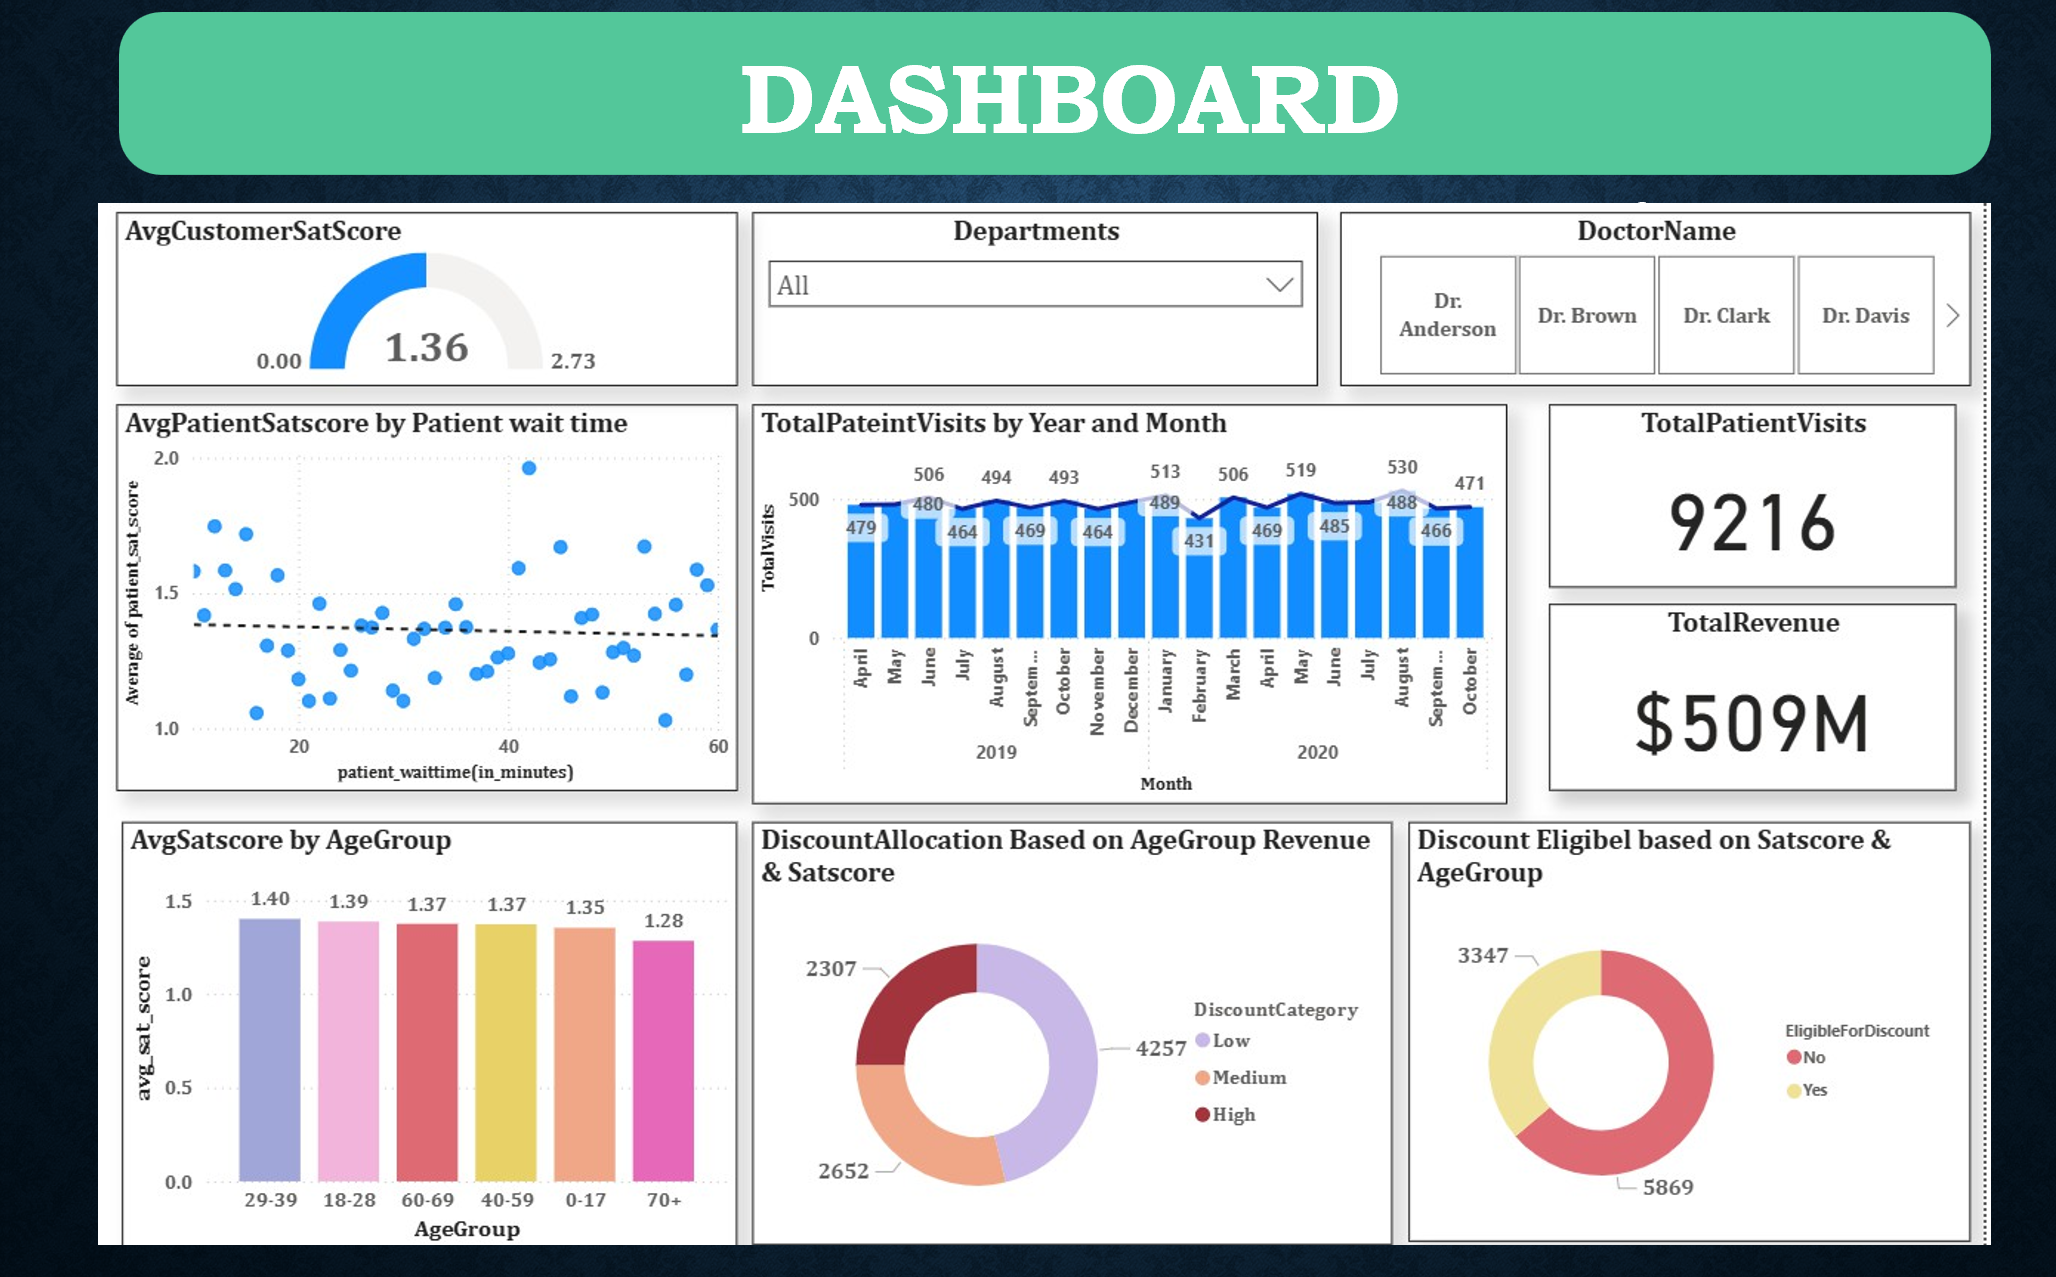

The page's visual inventory and layout, read from the dashboard file:
{"tool":"powerbi","page":{"name":"Doctors tab","canvas":[1280,720],"ordinal":1},"visuals":[{"type":"slicer","title":"DoctorName","fields":{"Values":["Sheet1.Doctor Name"]},"box":[845,11.2,426.2,117.5],"z":0},{"type":"card","title":"TotalPatientVisits","fields":{"Values":["Sheet1.TotalVisits"]},"box":[986.2,141.2,275,123.8],"z":1000},{"type":"scatterChart","title":"AvgPatientSatscore by Patient wait time","fields":{"X":["Hospital ER (1).patient_waittime(in_minutes)"],"Y":["Avg(Hospital ER (1).patient_sat_score)"]},"box":[17.5,141.2,420,261.2],"z":2000},{"type":"card","title":"TotalRevenue","fields":{"Values":["Sheet1.TotalRevenue"]},"box":[986.2,276.2,275,126.2],"z":3000},{"type":"slicer","title":"Departments","fields":{"Values":["Hospital ER (1).department_referral"]},"box":[447.5,11.2,382.5,117.5],"z":4000},{"type":"gauge","title":"AvgCustomerSatScore","fields":{"Y":["Hospital ER (1).avg_sat_score"]},"box":[17.5,11.2,420,117.5],"z":5000},{"type":"lineStackedColumnComboChart","title":"TotalPateintVisits by Year and Month","fields":{"Category":["Hospital ER (1).date.Variation.Date Hierarchy.Year","Hospital ER (1).date.Variation.Date Hierarchy.Month"],"Y2":["Sheet1.TotalVisits"],"Y":["Sheet1.TotalVisits"]},"box":[447.5,141.2,510,270],"z":6000},{"type":"clusteredColumnChart","title":"AvgSatscore by AgeGroup","fields":{"Category":["Hospital ER (1).AgeGroup"],"Y":["Hospital ER (1).avg_sat_score"]},"box":[21.4,424.3,415.7,290],"z":7000},{"type":"donutChart","title":"DiscountAllocation Based on AgeGroup Revenue & Satscore","fields":{"Y":["CountNonNull(Hospital ER (1).Discount Allocation)"],"Category":["Hospital ER (1).Discount Allocation"]},"box":[447.5,423.8,432.5,286.2],"z":8000},{"type":"donutChart","title":"Discount Eligibel based on  Satscore & AgeGroup","fields":{"Category":["Hospital ER (1).EligibleForDiscount"],"Y":["CountNonNull(Hospital ER (1).EligibleForDiscount)"]},"box":[891.2,423.8,380,283.8],"z":9000}]}

Visuals, with their boxes on the page's 1280x720 design canvas (x1, y1, x2, y2). These are canvas units, not pixel positions in the 2056x1277 screenshot, which may show the page scaled, cropped or inside an application window:
"DoctorName" slicer: detection(845, 11, 1271, 129)
"TotalPatientVisits" card: detection(986, 141, 1261, 265)
"AvgPatientSatscore by Patient wait time" scatterChart: detection(18, 141, 438, 402)
"TotalRevenue" card: detection(986, 276, 1261, 402)
"Departments" slicer: detection(448, 11, 830, 129)
"AvgCustomerSatScore" gauge: detection(18, 11, 438, 129)
"TotalPateintVisits by Year and Month" lineStackedColumnComboChart: detection(448, 141, 958, 411)
"AvgSatscore by AgeGroup" clusteredColumnChart: detection(21, 424, 437, 714)
"DiscountAllocation Based on AgeGroup Revenue & Satscore" donutChart: detection(448, 424, 880, 710)
"Discount Eligibel based on  Satscore & AgeGroup" donutChart: detection(891, 424, 1271, 708)
